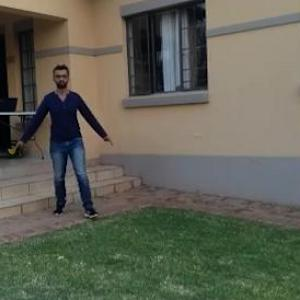land: (21, 71, 116, 222)
